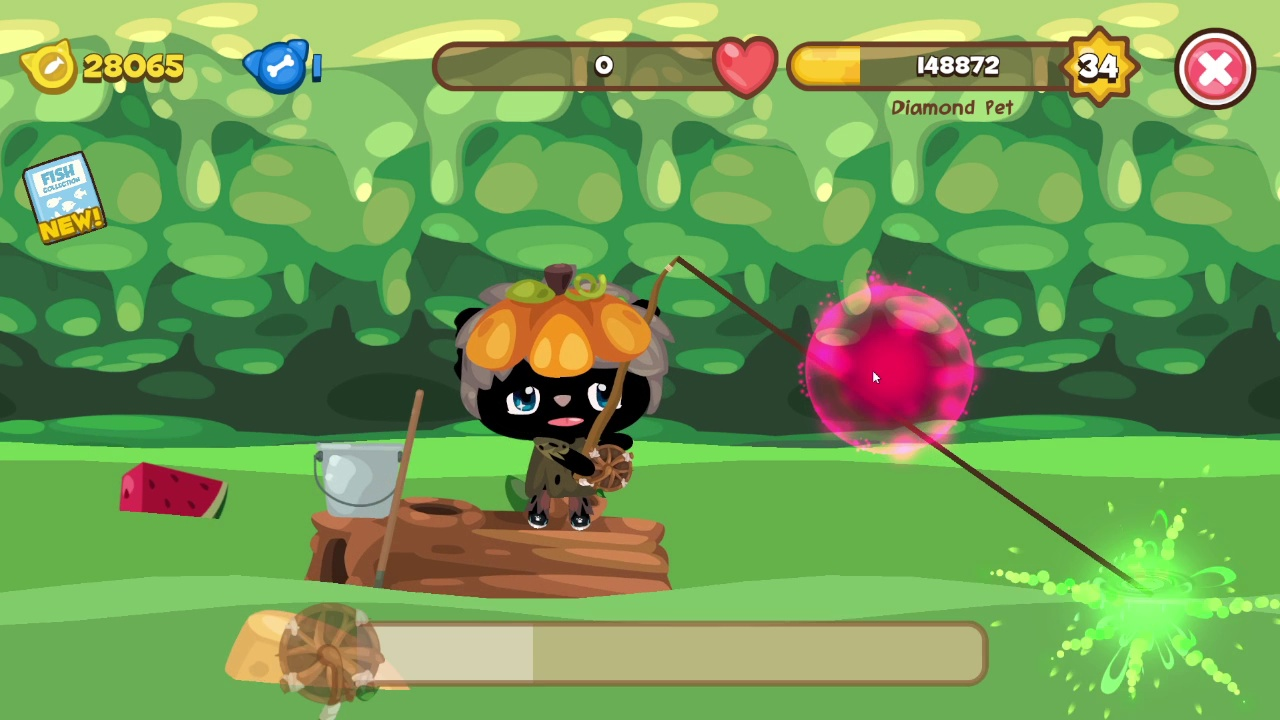point: (804, 285, 978, 455)
